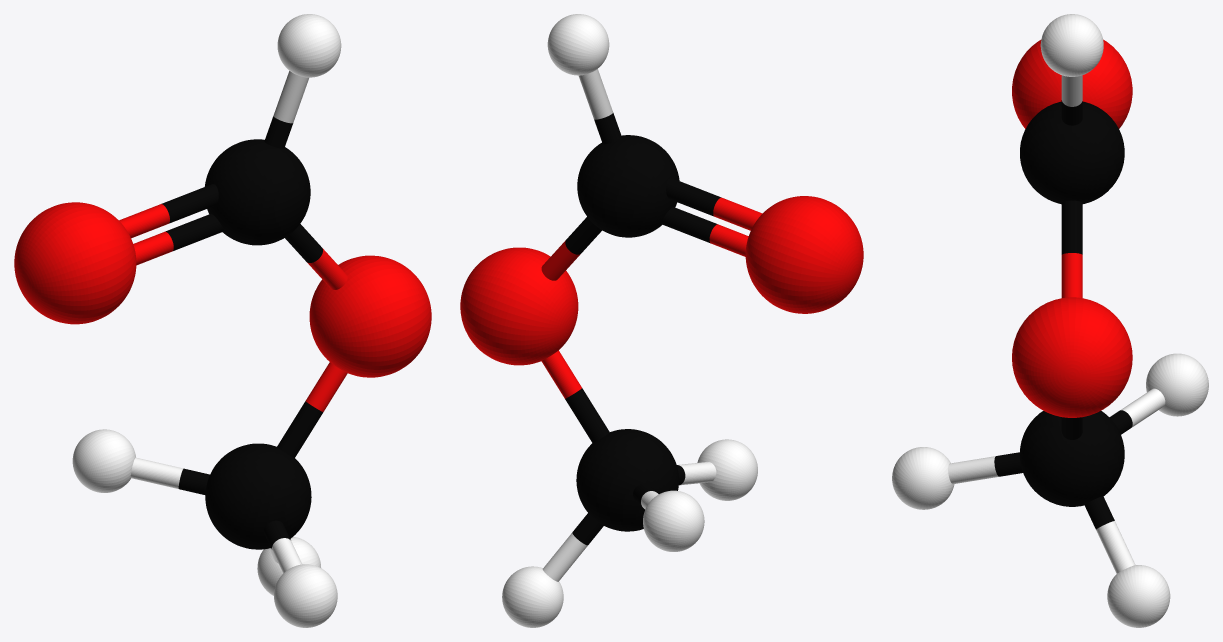
The model's file is Metanoatodemetilo.glb.
The picture shows the model from 3 angles, left to right: view 1: azimuth 30°, elevation 25°; view 2: azimuth 150°, elevation 25°; view 3: azimuth 270°, elevation 25°; orthographic projection. The views are drawn at different scales.
Parts seen in each view (by area): view 1: Esfera_UV.004, Esfera_UV.002_Esfera_UV.000, Esfera_UV.001, Esfera_UV, Esfera_UV.006_Esfera_UV.008, Esfera_UV.003_Esfera_UV.002, Esfera_UV.000_Esfera_UV.012, Cilindro.000_Cilindro.003, Cilindro.000, Cilindro.003, Cilindro.000_Cilindro.005, Cilindro.008 (+3 smaller); view 2: Esfera_UV.004, Esfera_UV.002_Esfera_UV.000, Esfera_UV.001, Esfera_UV, Esfera_UV.003_Esfera_UV.002, Esfera_UV.000_Esfera_UV.012, Esfera_UV.005, Esfera_UV.006_Esfera_UV.008, Cilindro.000_Cilindro.003, Cilindro.000, Cilindro.003, Cilindro.008 (+3 smaller); view 3: Esfera_UV.002_Esfera_UV.000, Esfera_UV.001, Esfera_UV, Esfera_UV.004, Esfera_UV.003_Esfera_UV.002, Esfera_UV.005, Esfera_UV.006_Esfera_UV.008, Esfera_UV.000_Esfera_UV.012, Cilindro.002, Cilindro.003_Cilindro.007, Cilindro.004, Cilindro.000_Cilindro.005 (+2 smaller).
Boxes of the visible parts, bbox=[...] form: Esfera_UV.004: bbox=[14, 202, 136, 324]; Esfera_UV.002_Esfera_UV.000: bbox=[309, 255, 431, 377]; Esfera_UV.001: bbox=[204, 139, 310, 245]; Esfera_UV: bbox=[205, 443, 311, 549]; Esfera_UV.006_Esfera_UV.008: bbox=[274, 564, 337, 627]; Esfera_UV.003_Esfera_UV.002: bbox=[277, 14, 341, 77]; Esfera_UV.000_Esfera_UV.012: bbox=[72, 429, 135, 492]; Cilindro.000_Cilindro.003: bbox=[277, 362, 347, 457]; Cilindro.000: bbox=[119, 184, 218, 238]; Cilindro.003: bbox=[133, 214, 223, 265]; Cilindro.000_Cilindro.005: bbox=[130, 457, 209, 494]; Cilindro.008: bbox=[264, 71, 308, 148]; Esfera_UV.004: bbox=[745, 196, 863, 313]; Esfera_UV.002_Esfera_UV.000: bbox=[460, 247, 578, 365]; Esfera_UV.001: bbox=[577, 135, 679, 237]; Esfera_UV: bbox=[576, 429, 678, 531]; Esfera_UV.003_Esfera_UV.002: bbox=[547, 14, 609, 75]; Esfera_UV.000_Esfera_UV.012: bbox=[643, 490, 704, 551]; Esfera_UV.005: bbox=[502, 566, 563, 627]; Esfera_UV.006_Esfera_UV.008: bbox=[697, 439, 757, 500]; Cilindro.000_Cilindro.003: bbox=[541, 350, 609, 442]; Cilindro.000: bbox=[666, 178, 762, 230]; Cilindro.003: bbox=[661, 207, 748, 256]; Cilindro.008: bbox=[578, 69, 621, 144]; Esfera_UV.002_Esfera_UV.000: bbox=[1012, 297, 1132, 417]; Esfera_UV.001: bbox=[1020, 101, 1124, 204]; Esfera_UV: bbox=[1019, 411, 1124, 506]; Esfera_UV.004: bbox=[1012, 39, 1132, 128]; Esfera_UV.003_Esfera_UV.002: bbox=[1040, 14, 1103, 76]; Esfera_UV.005: bbox=[1107, 565, 1170, 627]; Esfera_UV.006_Esfera_UV.008: bbox=[892, 447, 954, 509]; Esfera_UV.000_Esfera_UV.012: bbox=[1146, 353, 1208, 416]; Cilindro.002: bbox=[1061, 200, 1082, 297]; Cilindro.003_Cilindro.007: bbox=[1084, 496, 1135, 573]; Cilindro.004: bbox=[948, 452, 1022, 484]; Cilindro.000_Cilindro.005: bbox=[1109, 388, 1165, 434].
Bounding box in the file's own units: 8.72 × 12.64 × 6.03.
